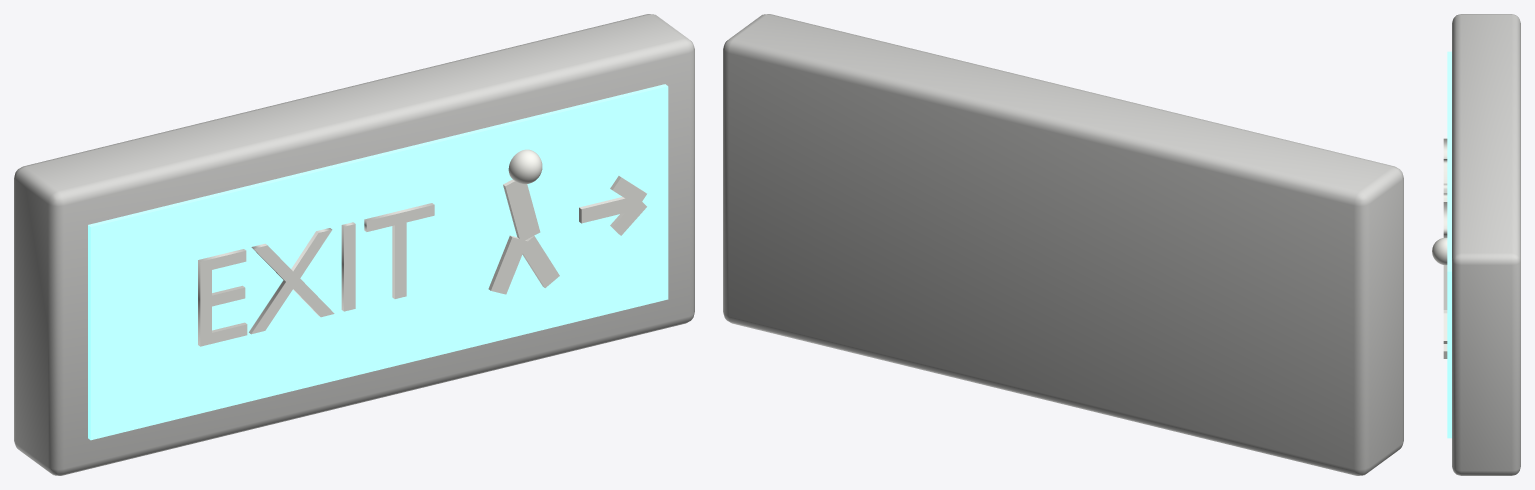
The model's file is ExitSign.fbx.
3 views of the same model, side by side, from view 1: azimuth 30°, elevation 25°; view 2: azimuth 150°, elevation 25°; view 3: azimuth 270°, elevation 25° (orthographic). The views are drawn at different scales.
Visible parts, largest first — view 1: ExitSign; view 2: ExitSign; view 3: ExitSign.
Boxes of the visible parts, left/top/right/bottom form: ExitSign: left=14, top=14, right=694, bottom=475; ExitSign: left=723, top=14, right=1403, bottom=475; ExitSign: left=1432, top=14, right=1520, bottom=475.
Size of the model in its own units: 0.38 by 0.16 by 0.058.
